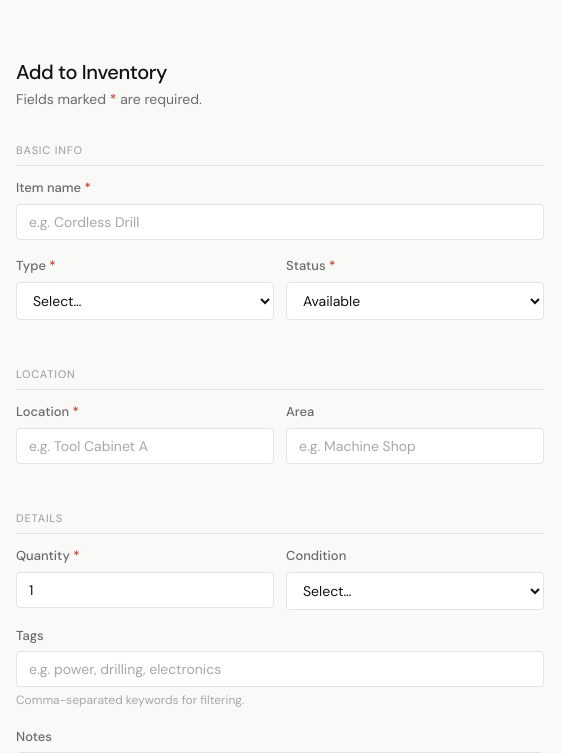
Test: AddItemPage › shows the duplicate warning banner when possibleDuplicate is returned
This screenshot has width=561, height=753.
In the field labelled "Item name *": coordinates (280, 222) top-left (16, 204), bottom-right (544, 240), type "Cordless Drill"
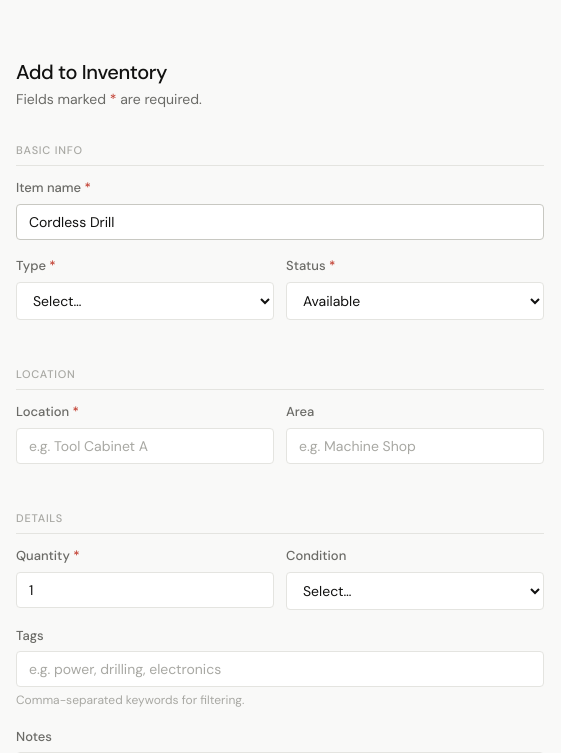
Select "Tool" in the dropdown labelled "Type *": coordinates (145, 301) top-left (16, 282), bottom-right (274, 320)
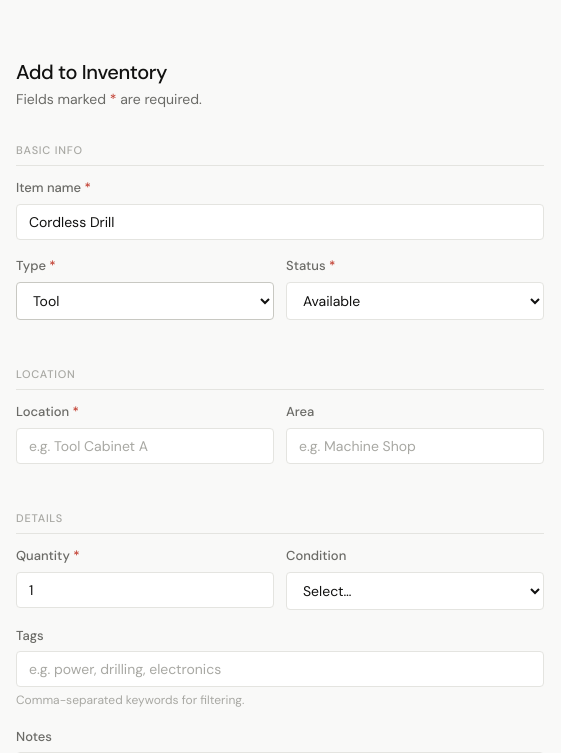
In the field labelled "Location *": coordinates (145, 446) top-left (16, 428), bottom-right (274, 464), type "Bay 1"
(page scrolled)
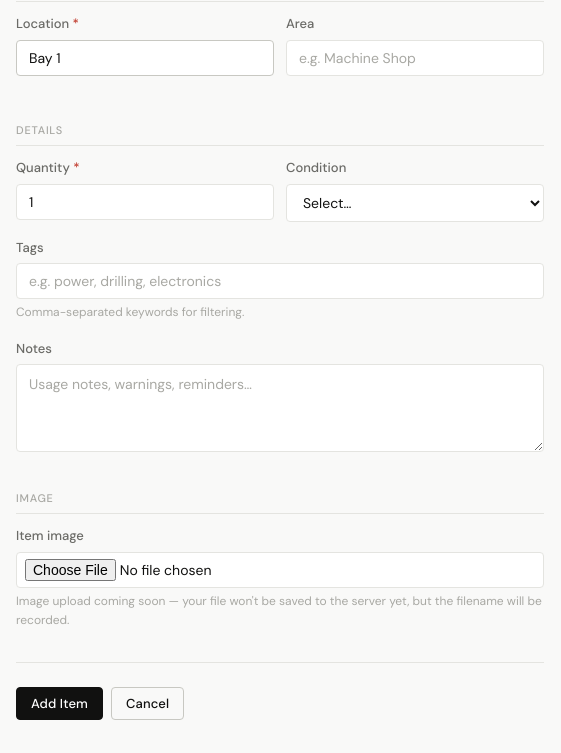
Click the button "Add Item": coordinates (60, 704) top-left (16, 687), bottom-right (103, 720)
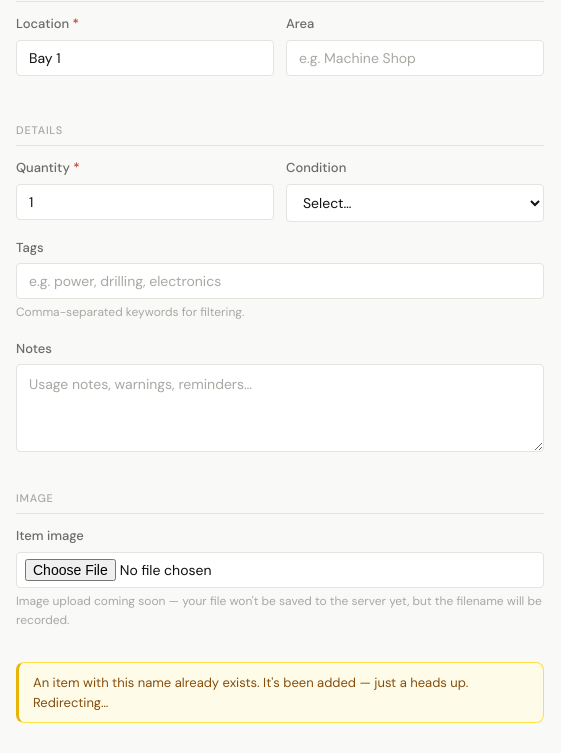
Now the message is shown, box top-left (16, 662), bottom-right (544, 723)
Now the message shows "already exists", box top-left (33, 674), bottom-right (468, 711)
